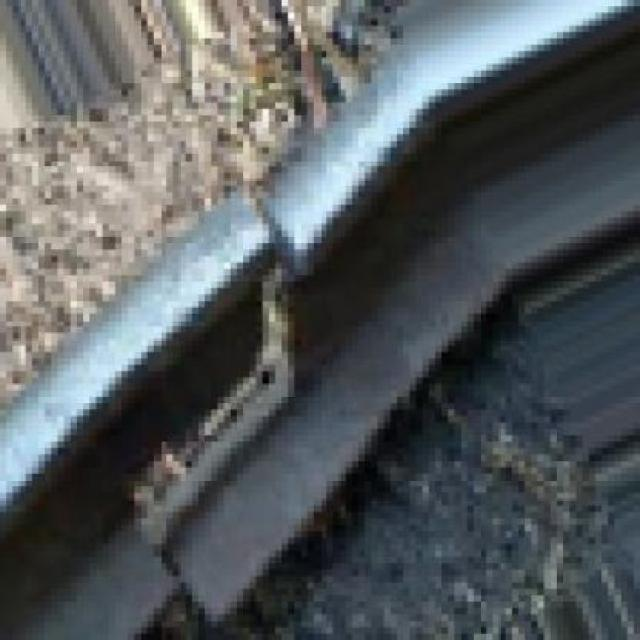defective: (94, 97, 372, 640)
